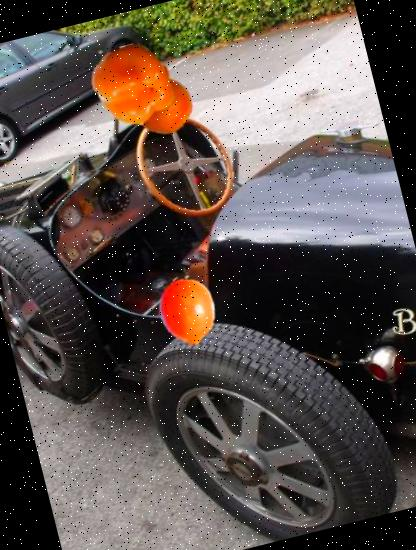Pepper: (83, 36, 182, 135)
Tangelo: (148, 272, 228, 353), (127, 69, 199, 142)
